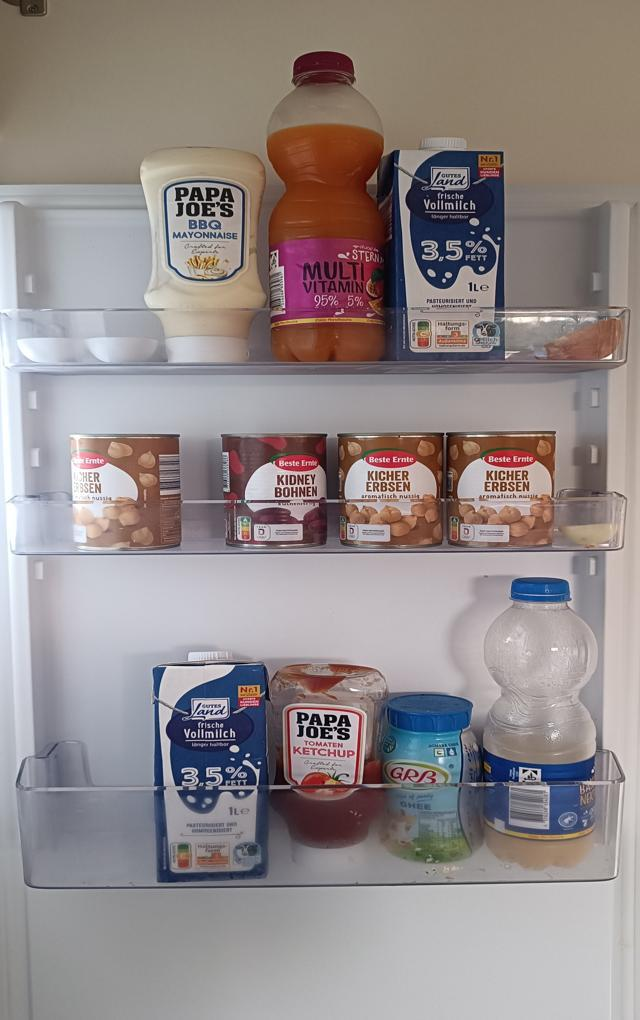bananajuice: (483, 577, 600, 872)
chickpeas: (445, 430, 558, 547), (70, 433, 182, 551), (337, 434, 443, 547)
ghee: (378, 691, 486, 864)
kidneybeans: (219, 432, 330, 548)
mayoniasie: (140, 145, 266, 364)
milk: (151, 650, 270, 883), (380, 137, 504, 358)
orangejuice: (266, 52, 387, 360)
tomatoketchup: (273, 662, 386, 863)
